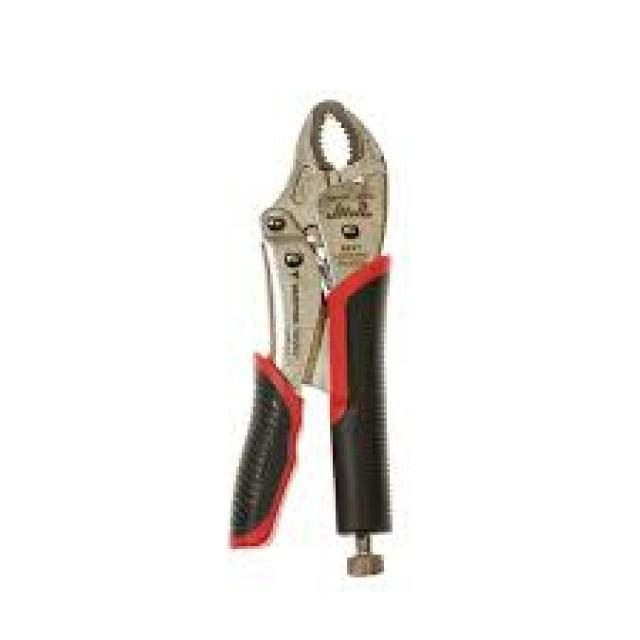pliers: (220, 82, 403, 582)
